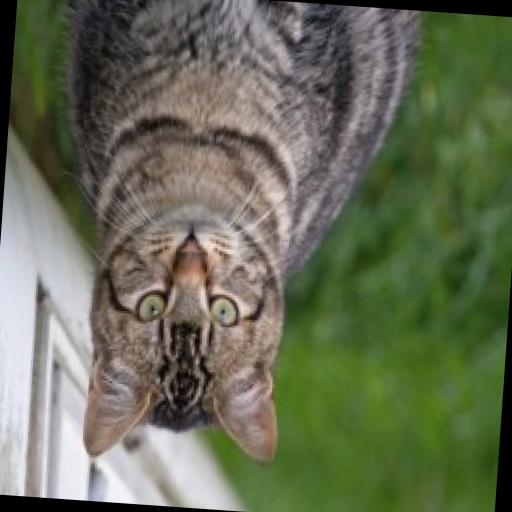cat: (43, 0, 451, 489)
